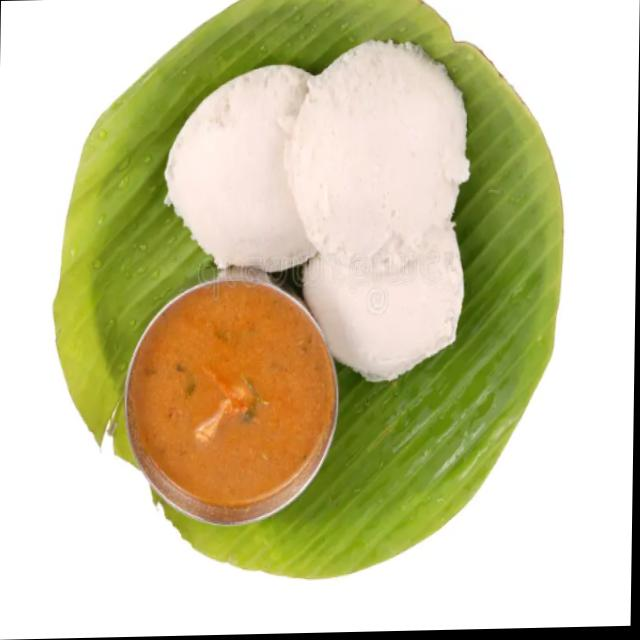IDLI: (160, 42, 466, 378)
SAMBAR: (120, 276, 348, 518)
